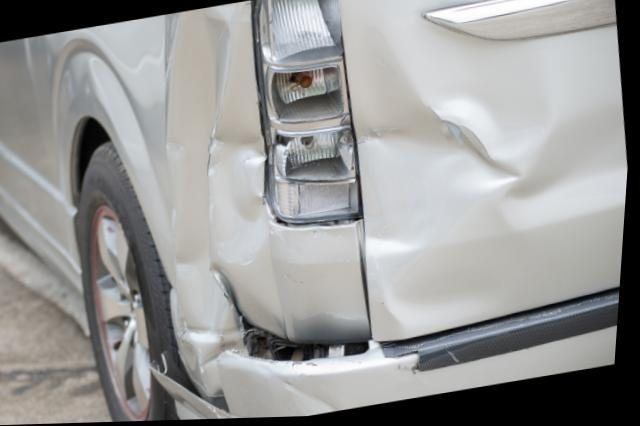dent: (352, 14, 629, 339), (165, 2, 293, 362)
dislocated part: (225, 325, 383, 378)
lamp broken: (251, 0, 369, 226)
